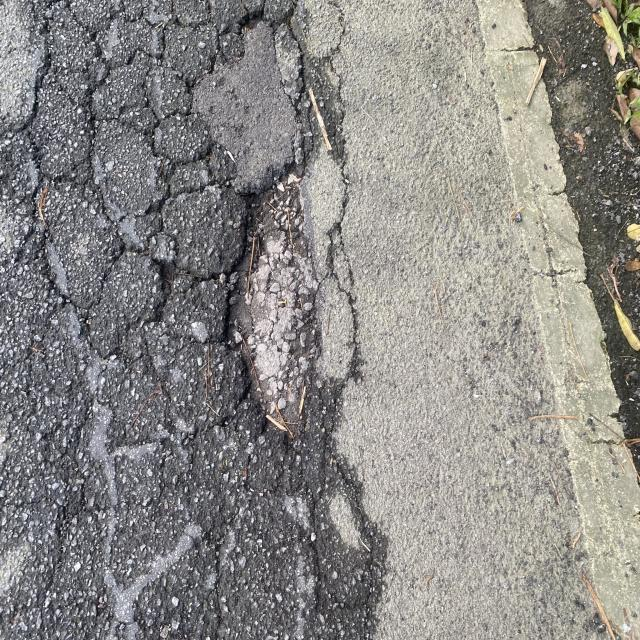pothole: (20, 36, 389, 491)
